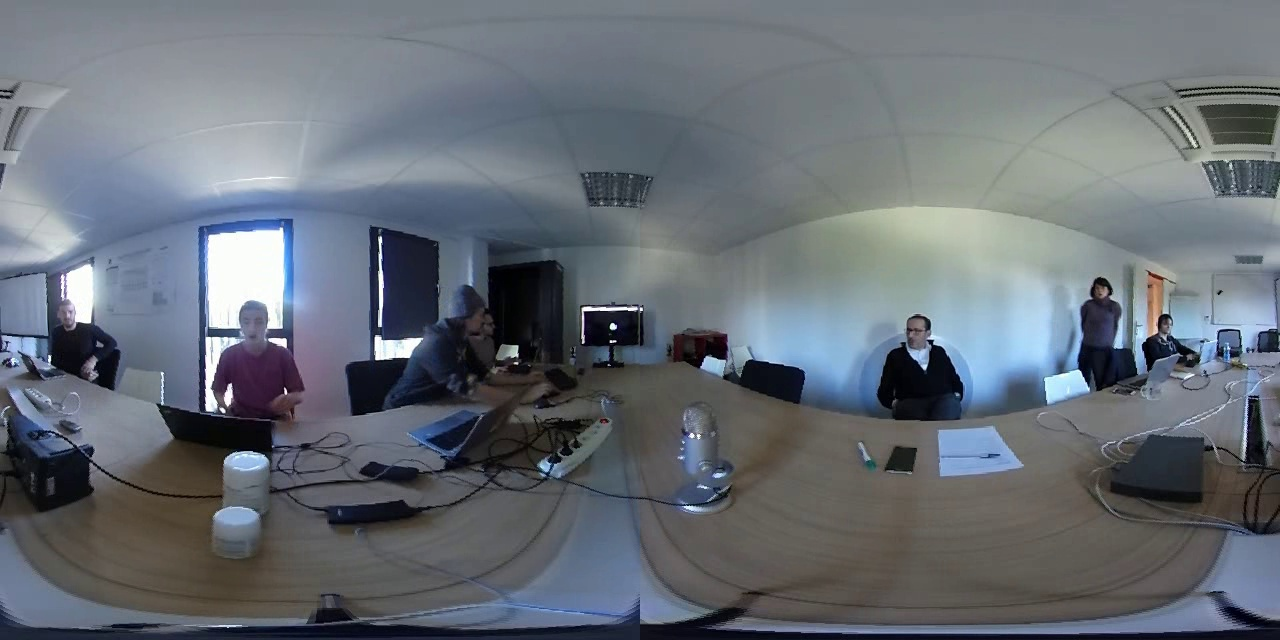person: (870, 307, 976, 425), (392, 282, 486, 407), (195, 291, 305, 397), (1067, 259, 1125, 386), (46, 295, 119, 379), (1149, 304, 1197, 371), (482, 309, 502, 338)
